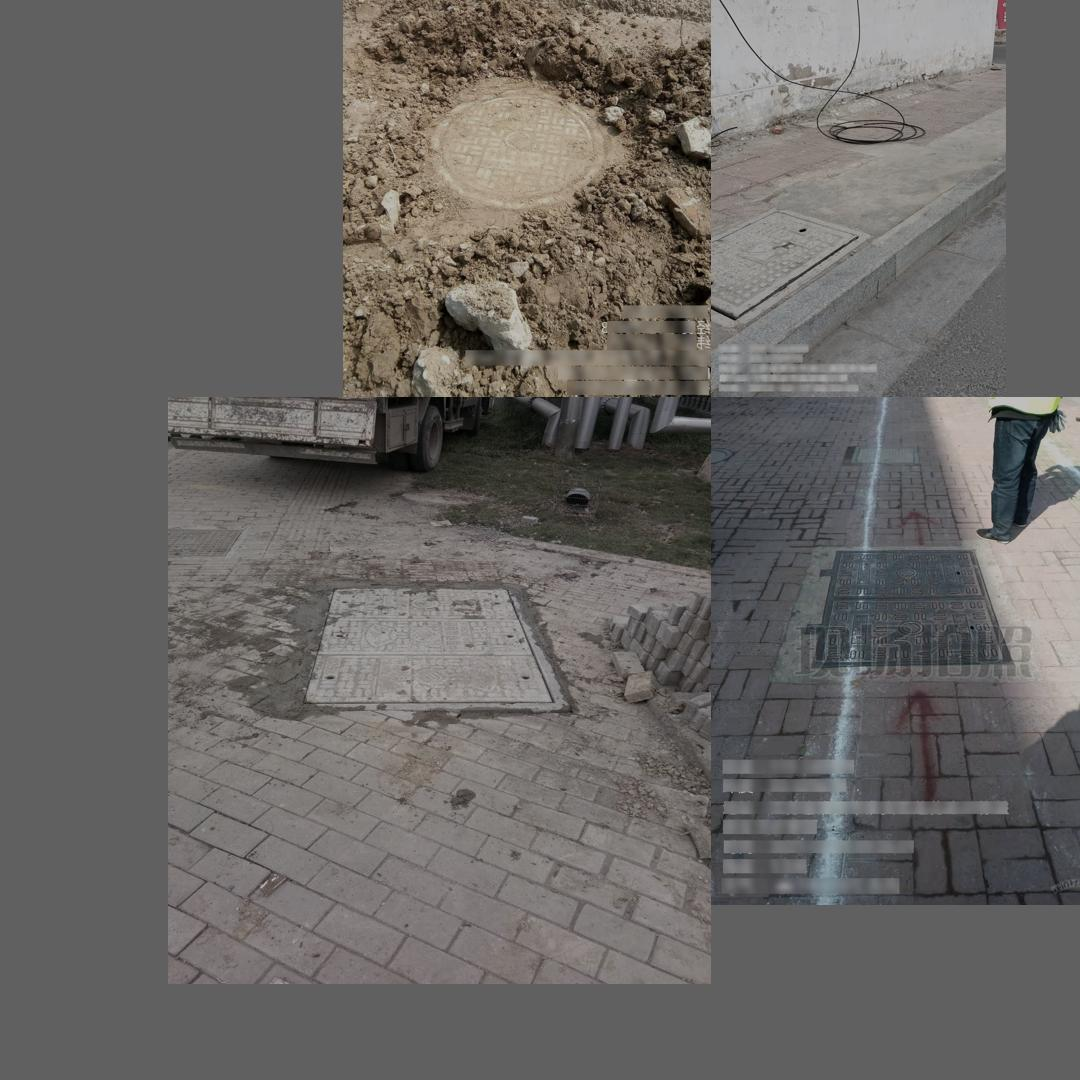good: (299, 582, 566, 709), (804, 546, 1016, 667), (428, 89, 605, 206), (711, 206, 870, 326), (849, 444, 919, 464)
